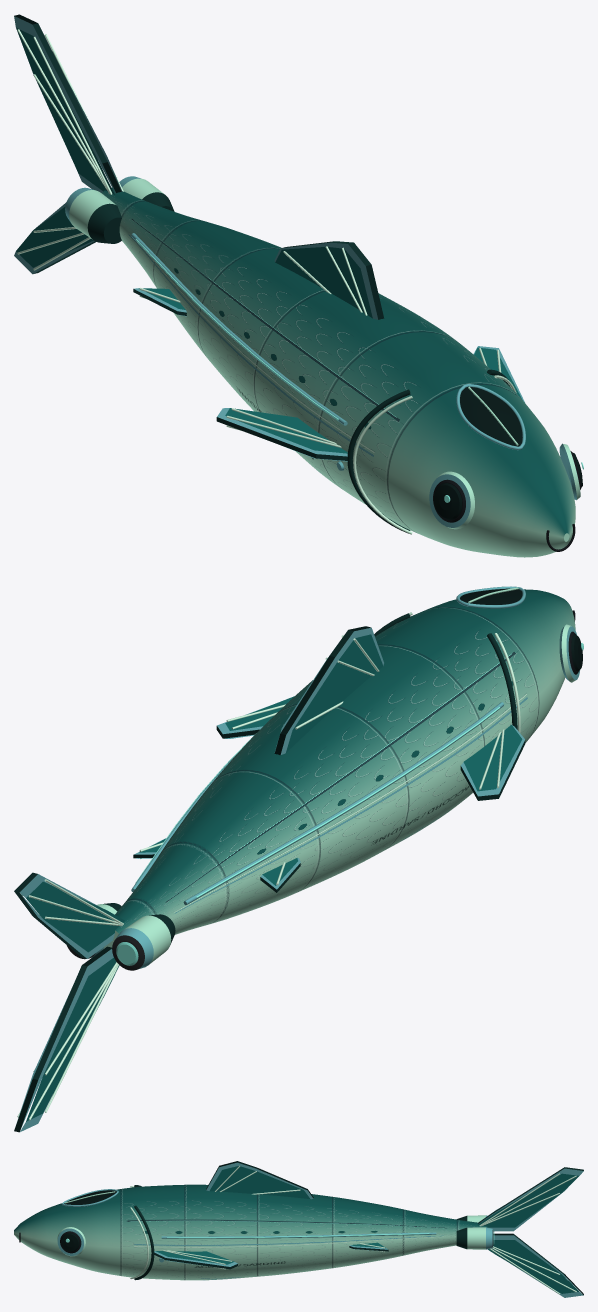
3 views of the same model, one above another, from view 1: azimuth 30°, elevation 25°; view 2: azimuth 150°, elevation 25°; view 3: azimuth 270°, elevation 25° (orthographic). The views are drawn at different scales.
Visible parts, largest first — view 1: sardine_hull; view 2: sardine_hull; view 3: sardine_hull.
Part boxes in pixels (left/top/right/bottom): sardine_hull: left=14, top=14, right=583, bottom=557; sardine_hull: left=14, top=586, right=583, bottom=1132; sardine_hull: left=14, top=1161, right=583, bottom=1297.
Bounding box in the file's own units: 4.8 × 4.25 × 16.2.
1 material, 1 textured.
